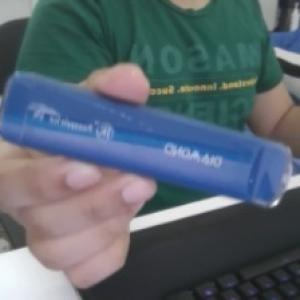Diamond-E-Ciggirate: (1, 68, 294, 212)
